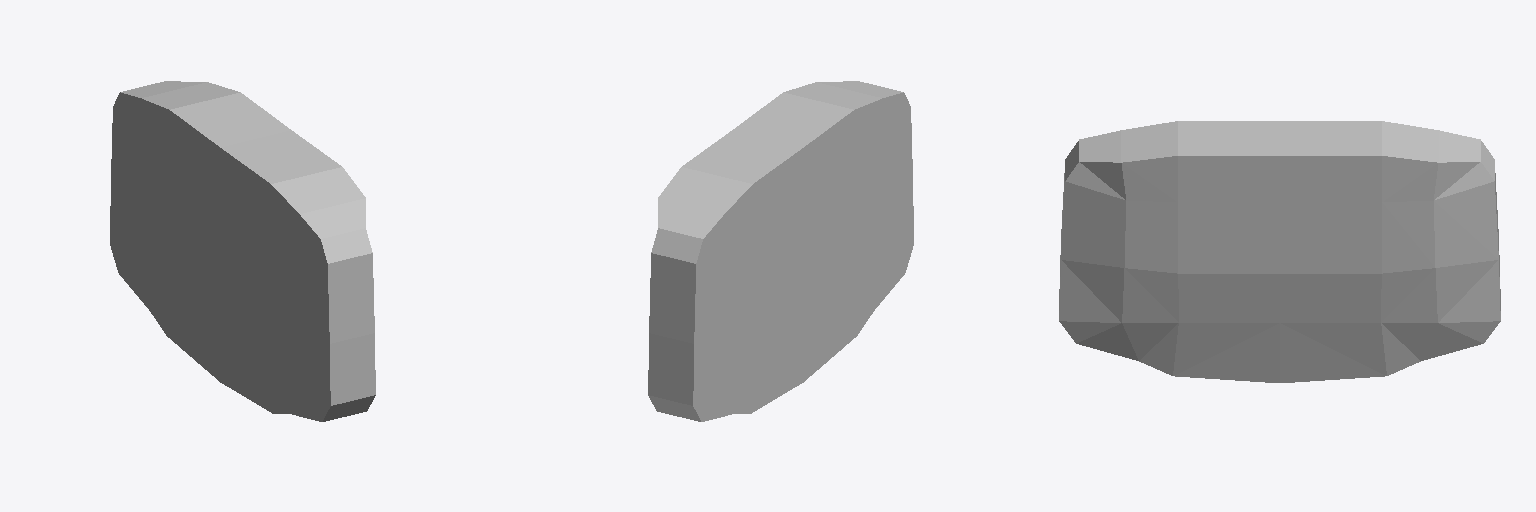
Rendered from gba.obj.
The picture shows the model from 3 angles: view 1: azimuth 30°, elevation 25°; view 2: azimuth 150°, elevation 25°; view 3: azimuth 270°, elevation 25°; orthographic projection.
Parts seen in each view (by area): view 1: gba; view 2: gba; view 3: gba.
Boxes of the visible parts, <box> form: gba: <box>110,81,375,421</box>; gba: <box>648,81,913,421</box>; gba: <box>1059,121,1500,382</box>.
Bounding box in the file's own units: 0.8122 × 2.56 × 4.35.